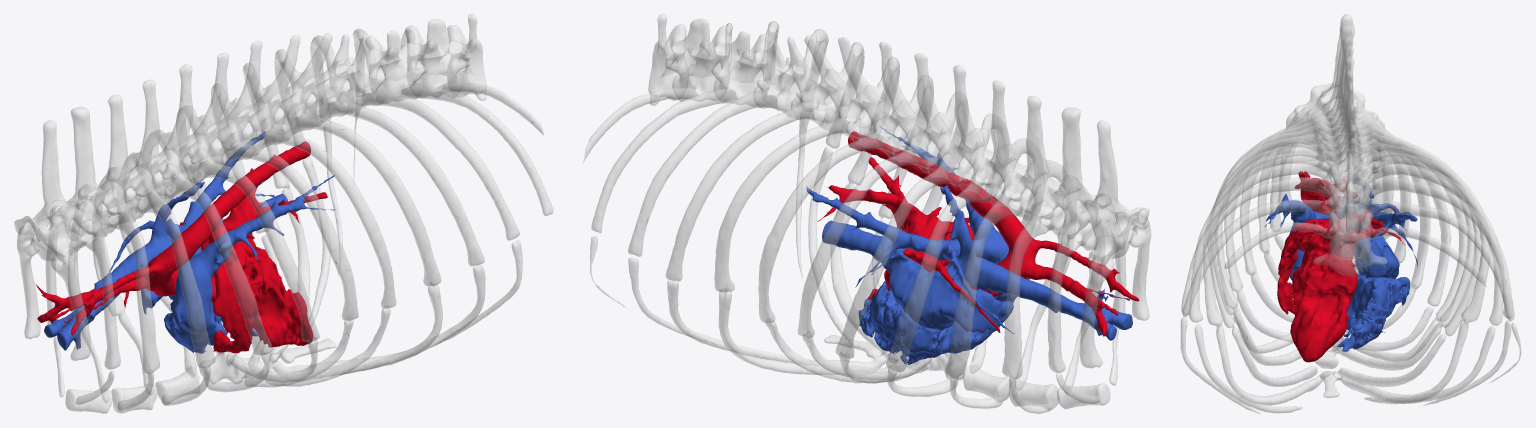
Rendered from dog-heart-blood-volume.glb.
3 renders of one model, left to right at view 1: azimuth 30°, elevation 25°; view 2: azimuth 150°, elevation 25°; view 3: azimuth 270°, elevation 25°, orthographic. The views are drawn at different scales.
Visible parts, largest first — view 1: Object_2, Object_3, Object_4, Object_6, Object_7, Object_9, Object_10; view 2: Object_2, Object_3, Object_10, Object_4, Object_9, Object_6, Object_7; view 3: Object_2, Object_3, Object_4, Object_7, Object_6, Object_9, Object_10.
Part boxes in pixels (left/top/right/bottom): Object_2: left=17, top=14, right=519, bottom=410; Object_3: left=35, top=17, right=553, bottom=391; Object_4: left=14, top=98, right=522, bottom=413; Object_6: left=36, top=141, right=327, bottom=353; Object_7: left=51, top=145, right=313, bottom=353; Object_9: left=107, top=131, right=335, bottom=353; Object_10: left=44, top=182, right=287, bottom=350; Object_2: left=598, top=14, right=1151, bottom=413; Object_3: left=583, top=19, right=1039, bottom=382; Object_10: left=822, top=185, right=1132, bottom=340; Object_4: left=590, top=119, right=1148, bottom=409; Object_9: left=806, top=126, right=1029, bottom=364; Object_6: left=848, top=131, right=1139, bottom=336; Object_7: left=817, top=133, right=1024, bottom=321; Object_2: left=1181, top=14, right=1510, bottom=404; Object_3: left=1182, top=56, right=1514, bottom=392; Object_4: left=1180, top=234, right=1521, bottom=413; Object_7: left=1278, top=178, right=1404, bottom=362; Object_6: left=1277, top=171, right=1384, bottom=323; Object_9: left=1264, top=194, right=1417, bottom=351; Object_10: left=1338, top=179, right=1399, bottom=279.
Bounding box in the file's own units: 1.35 × 0.9357 × 0.9592.
